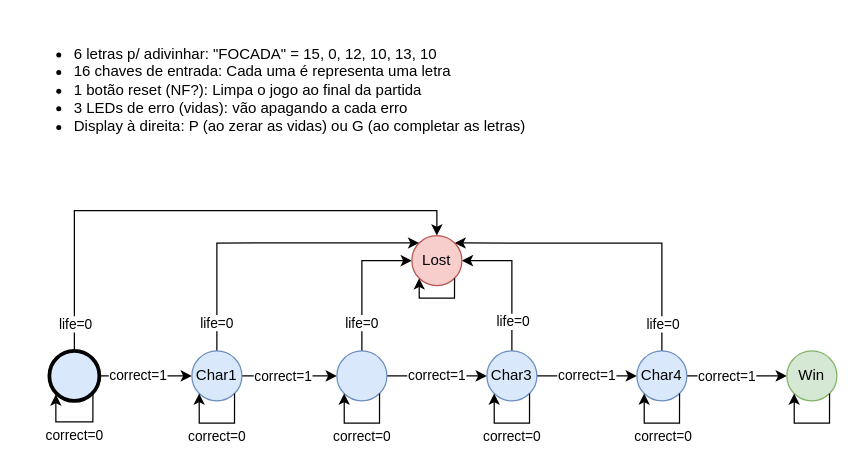
Some shapes in this 861 by 465 pixel diagram are drawn without their labels. The shapes that lost their labels are listed below. From the top down, each one's box as (x1, y1, x2, y2) in pixels, then its label:
(47, 348, 101, 402): Char0
(336, 350, 387, 401): Char2
